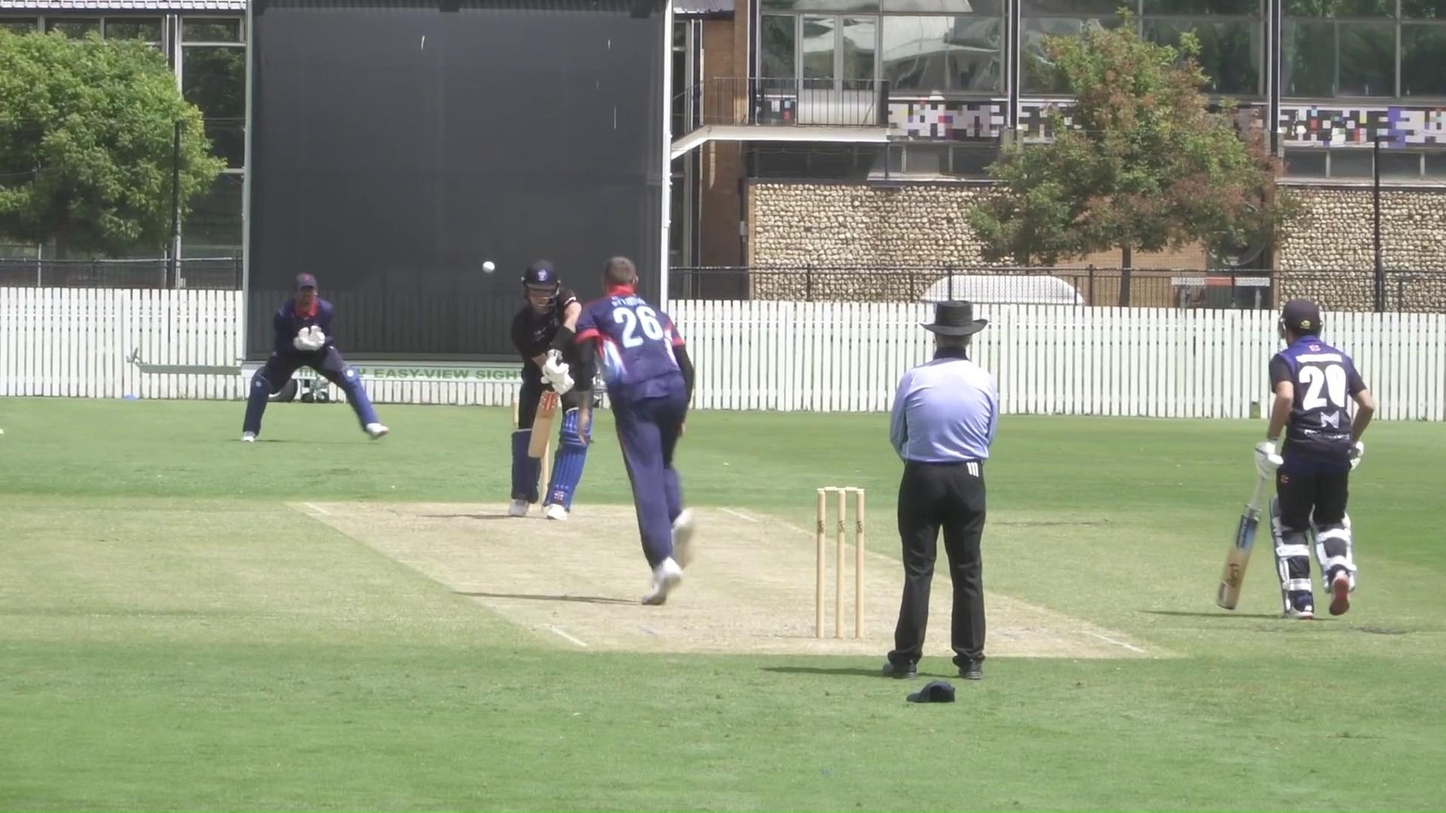ball: (478, 257, 501, 277)
